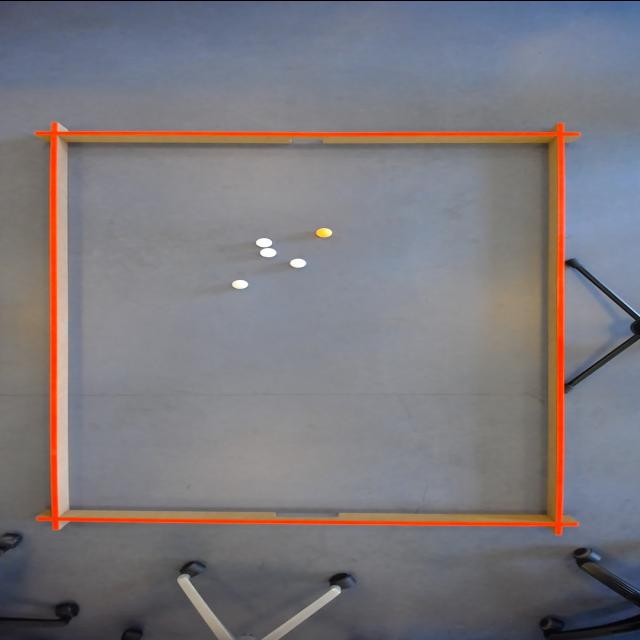orange_ball: (313, 227, 335, 237)
white_ball: (258, 245, 280, 258), (288, 256, 310, 268), (254, 235, 276, 247), (230, 277, 250, 289)
